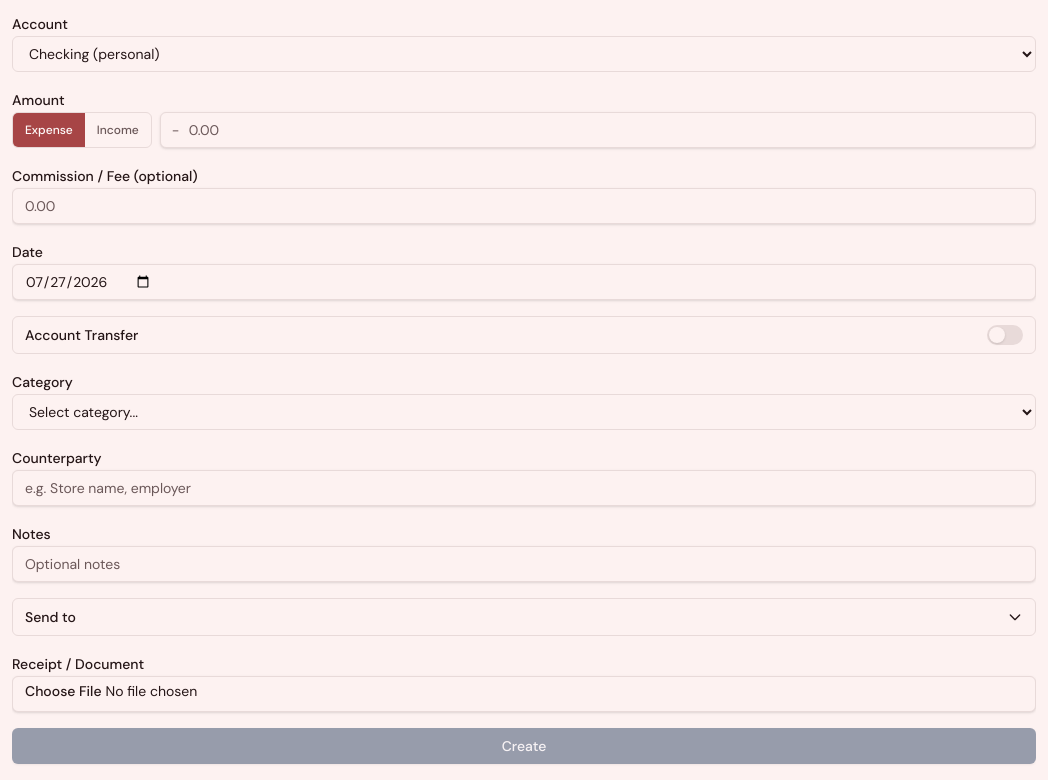
Test case: TransactionForm - transfer mode › should hide target account dropdown when transfer is toggled off
This screenshot has width=1048, height=780.
Note:  Turn on
Click the switch at (1005, 335), box top-left (987, 325), bottom-right (1023, 345)
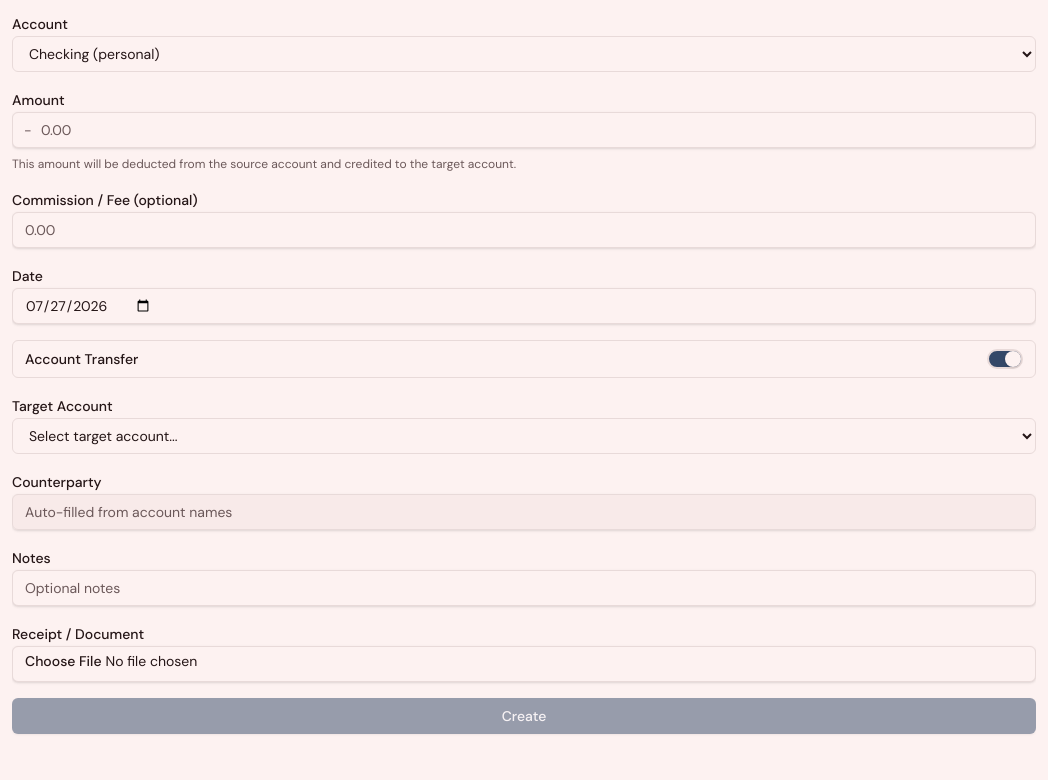
Expected: the text "Target Account" is shown, top-left (12, 397), bottom-right (113, 415)
Note: Turn off
Click the switch at (1005, 359), box top-left (987, 349), bottom-right (1023, 369)
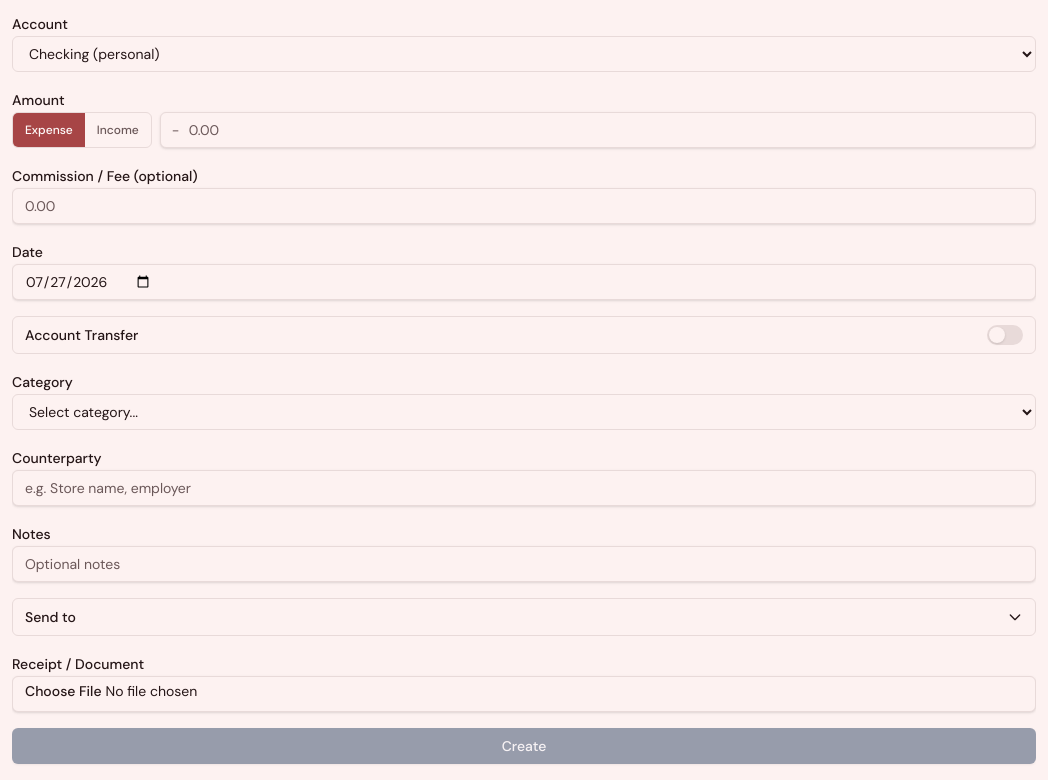
Expected: the text "Target Account" is gone
